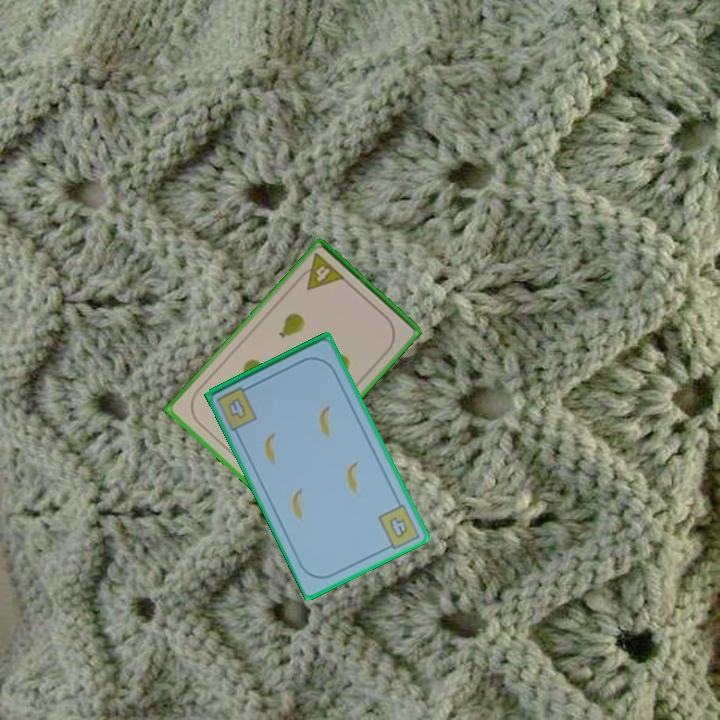4b: (374, 500, 423, 553), (225, 394, 250, 422)
4p: (294, 249, 348, 293)
